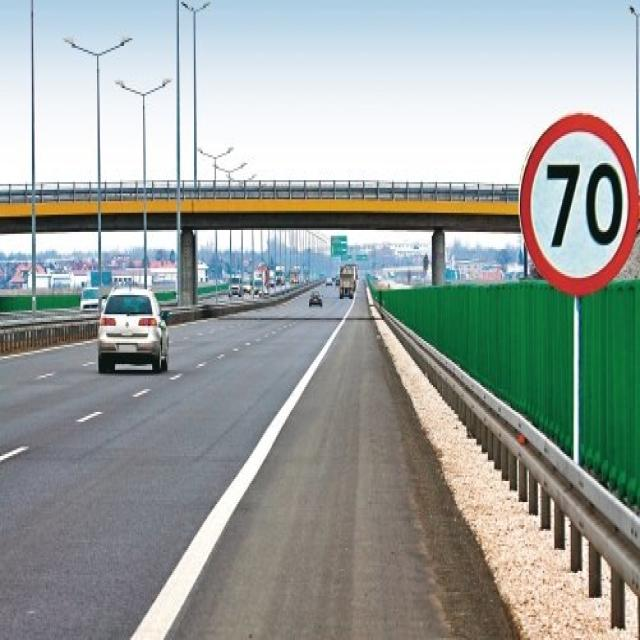Speed Limit -70-: (547, 163, 623, 250)
